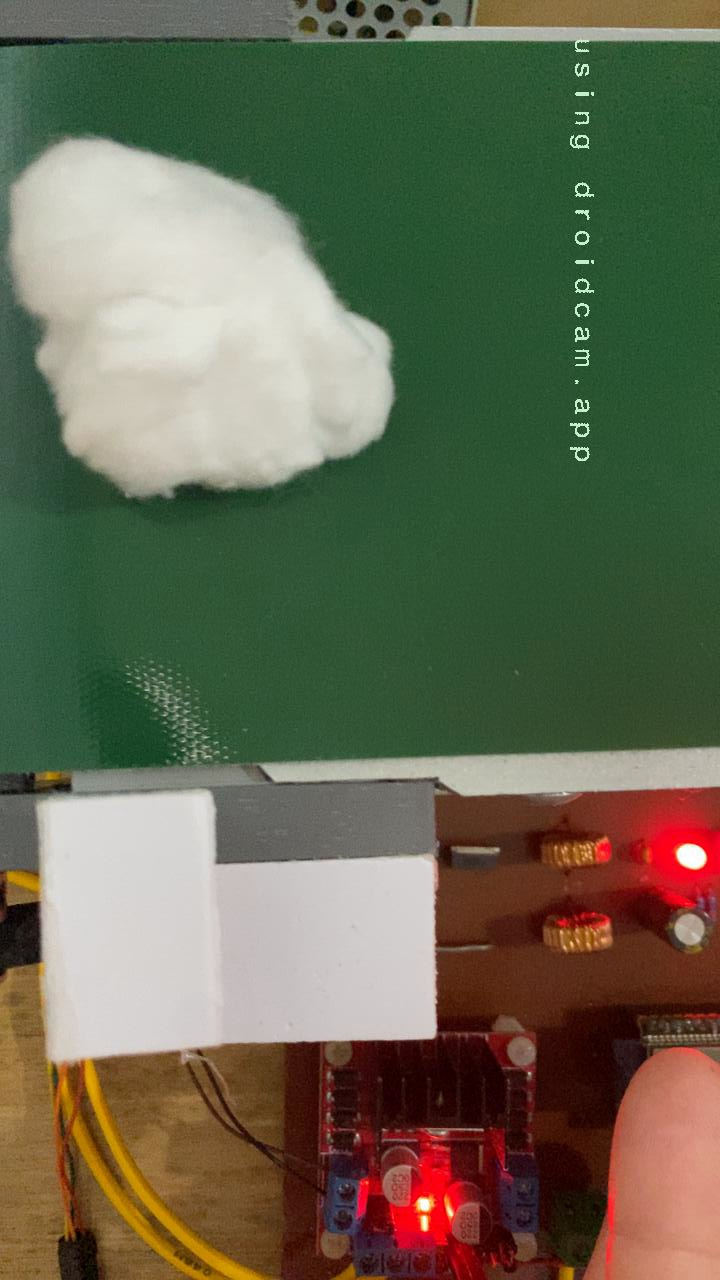cotton: (0, 130, 403, 506)
